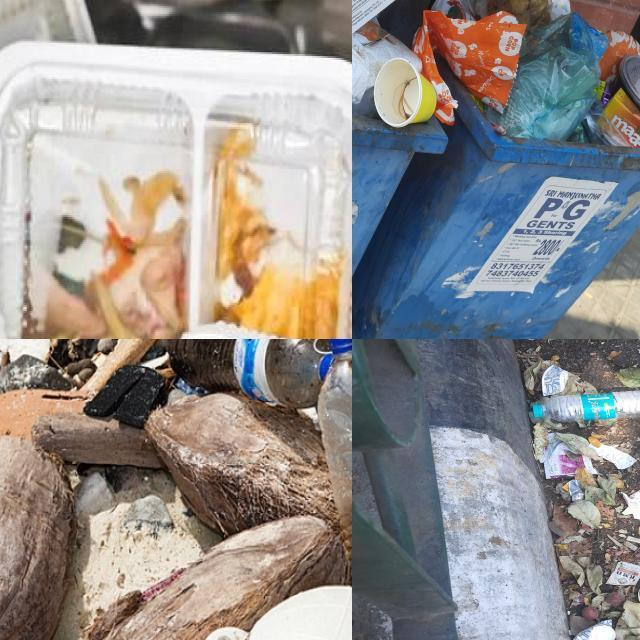Background: (509, 339, 640, 640)
Cig_bud: (624, 542, 638, 552), (626, 536, 640, 544)
Garbage: (0, 339, 352, 640), (352, 0, 640, 152)
Plastic: (620, 55, 640, 109)
Plastic_Bag: (486, 14, 608, 140), (352, 33, 421, 116), (475, 0, 553, 29), (581, 101, 630, 146)
Plastic_bottle: (168, 339, 331, 407), (318, 339, 352, 583)
Plastic_wraper: (606, 561, 640, 587), (599, 81, 612, 107)
Tetrapack: (604, 90, 640, 148)
